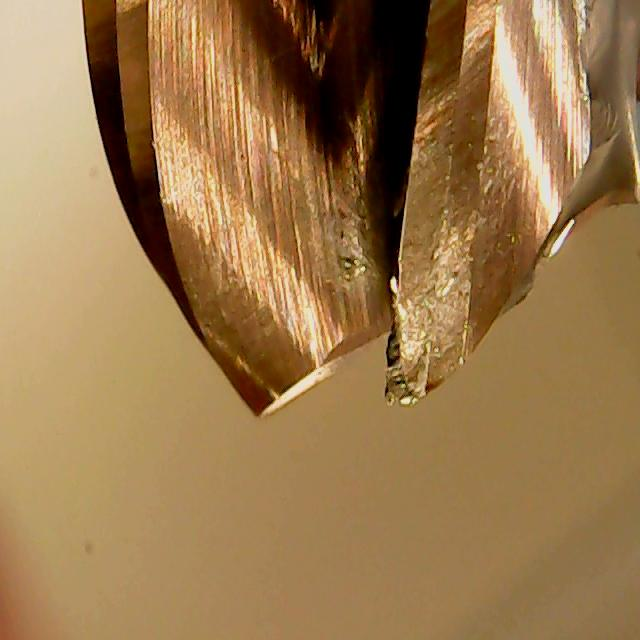Tool-wear-class-1: (362, 178, 483, 416)
